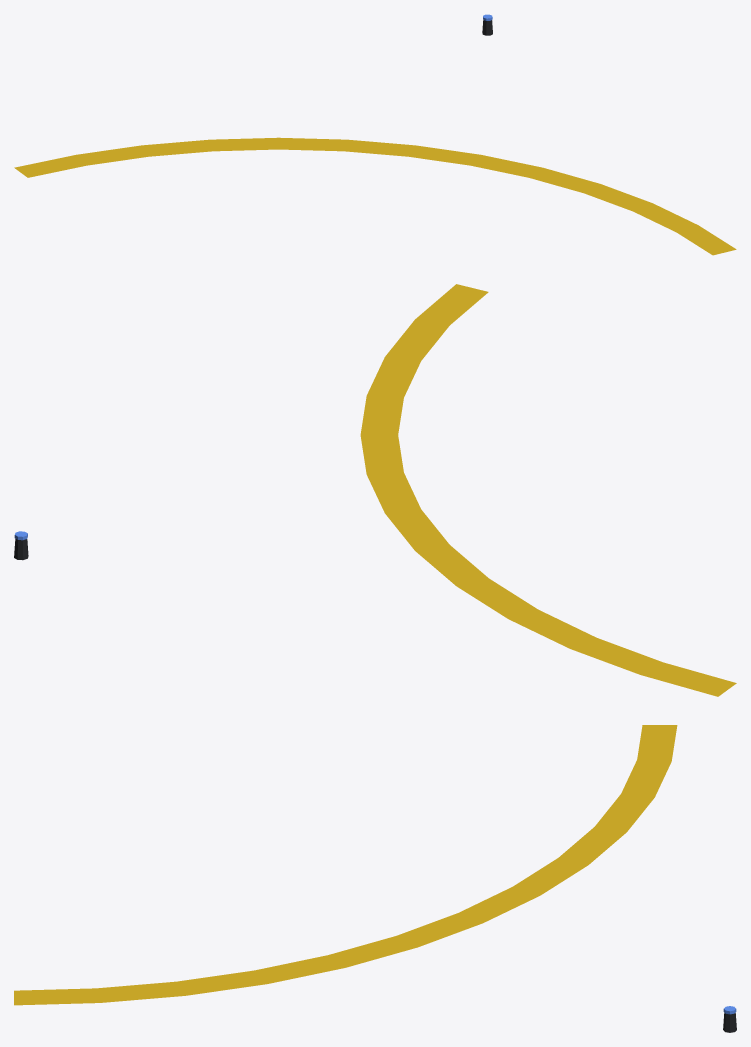
Rendered from let_oblouk.glb.
3 views of the same model, one above another, from view 1: azimuth 30°, elevation 25°; view 2: azimuth 150°, elevation 25°; view 3: azimuth 270°, elevation 25° (orthographic). The views are drawn at different scales.
Parts seen in each view (by area): view 1: dum; view 2: dum; view 3: dum.
Part boxes in pixels (x1,y1,x2,y2): dum: (14, 20, 736, 255); dum: (14, 284, 736, 696); dum: (14, 725, 736, 1032).
Bounding box in the file's own units: 8.28 × 0.27 × 8.28.
Materials: 1 (1 with a texture image).
